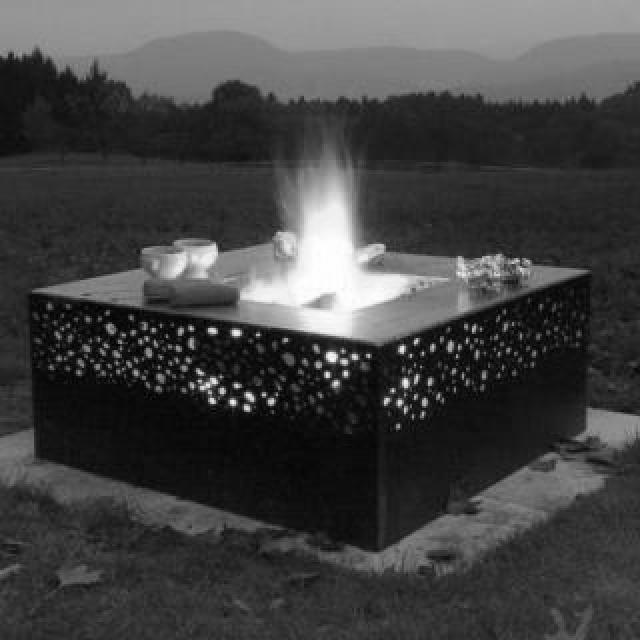fire: (264, 128, 374, 312)
